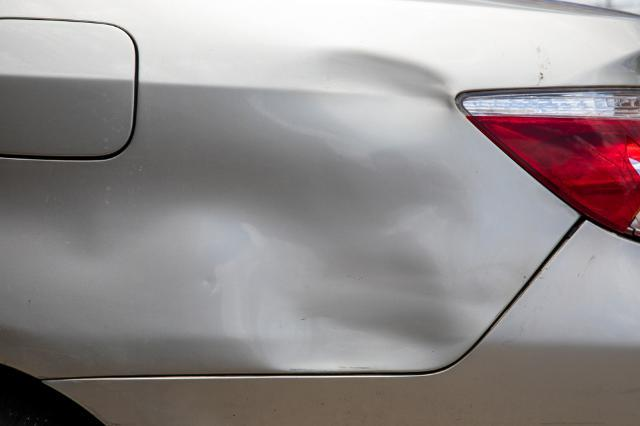dent: (0, 134, 470, 375), (290, 47, 451, 149)
lamp broken: (463, 89, 640, 237)
